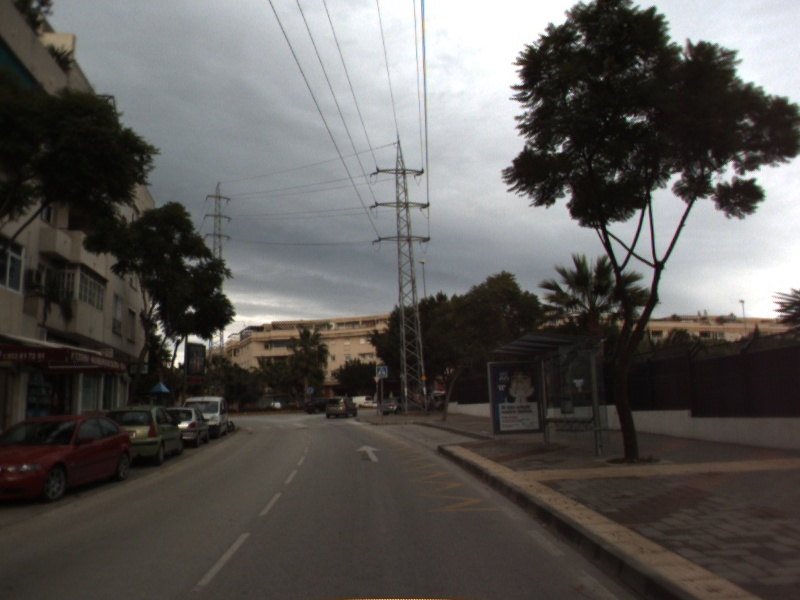STRAIGHT: (354, 443, 384, 464)
